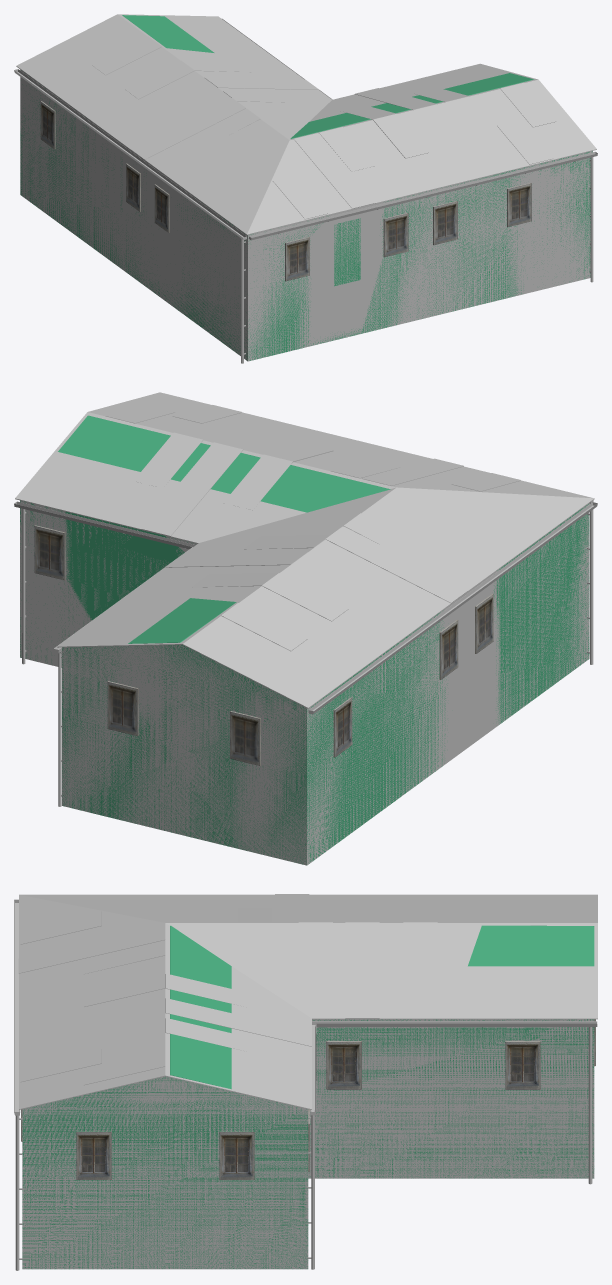
Rendered from ind_bld_06.dae.
The picture shows the model from 3 angles, top to bottom: view 1: azimuth 30°, elevation 25°; view 2: azimuth 150°, elevation 25°; view 3: azimuth 270°, elevation 25°; orthographic projection. The views are drawn at different scales.
Parts seen in each view (by area): view 1: ind_bld_c300, nd_bld_c50, Colmesh-1, ind_bld_c80; view 2: ind_bld_c300, Colmesh-1, ind_bld_c80, nd_bld_c50; view 3: ind_bld_c300, Colmesh-1, ind_bld_c80, nd_bld_c50.
Boxes of the visible parts, left/top/right/bottom form: ind_bld_c300: left=14, top=14, right=597, bottom=363; nd_bld_c50: left=20, top=70, right=592, bottom=360; Colmesh-1: left=20, top=15, right=592, bottom=360; ind_bld_c80: left=14, top=36, right=556, bottom=280; ind_bld_c300: left=14, top=392, right=597, bottom=865; Colmesh-1: left=20, top=415, right=589, bottom=864; ind_bld_c80: left=23, top=404, right=597, bottom=764; nd_bld_c50: left=20, top=502, right=589, bottom=864; ind_bld_c300: left=14, top=894, right=597, bottom=1270; Colmesh-1: left=22, top=925, right=594, bottom=1269; ind_bld_c80: left=18, top=894, right=596, bottom=1269; nd_bld_c50: left=22, top=1019, right=594, bottom=1269.
Size of the model in its own units: 14.34 by 16.34 by 6.13.
